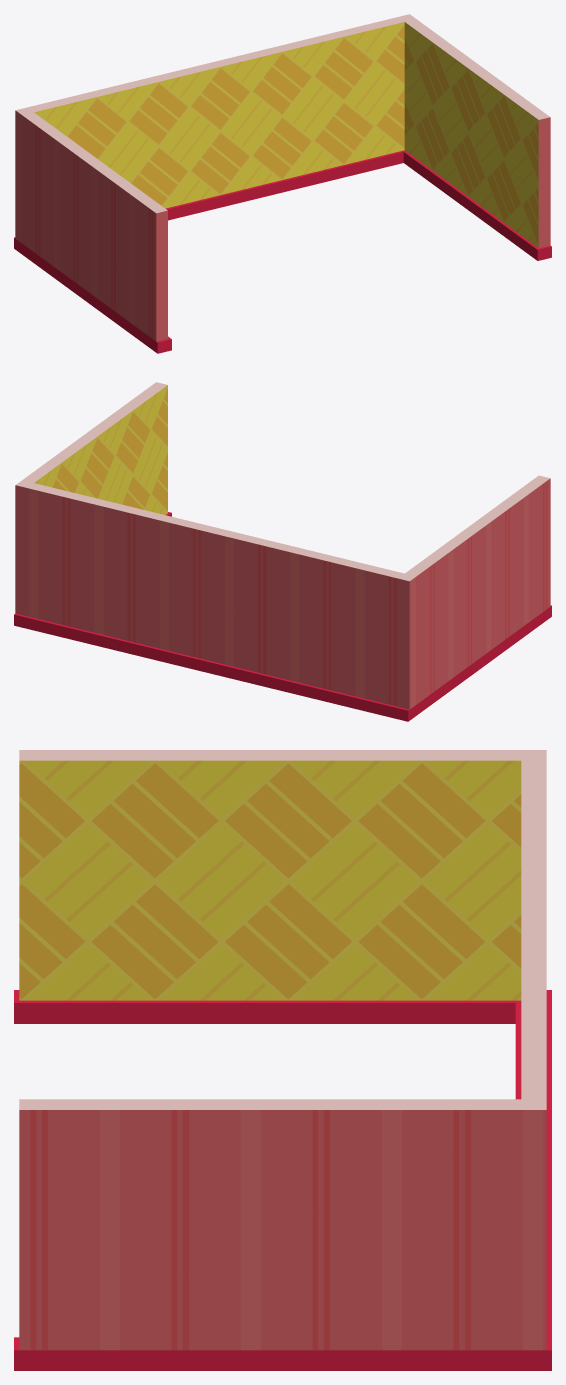
File: Room02-5_Wall_geo.fbx
3 views of the same model, one above another, from view 1: azimuth 30°, elevation 25°; view 2: azimuth 150°, elevation 25°; view 3: azimuth 270°, elevation 25° (orthographic). The views are drawn at different scales.
Visible parts, largest first — view 1: Room02-5_Wall_geo; view 2: Room02-5_Wall_geo; view 3: Room02-5_Wall_geo.
Boxes of the visible parts, x1,y1,x2,y2 form: Room02-5_Wall_geo: (14,14,551,353); Room02-5_Wall_geo: (14,382,551,721); Room02-5_Wall_geo: (14,750,551,1370).
Size of the model in its own units: 6.03 by 3.81 by 2.04.
